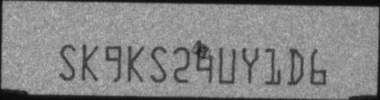1: (263, 44, 282, 84)
2: (173, 46, 191, 82)
4: (194, 46, 214, 83)
6: (309, 47, 327, 85)
9: (105, 45, 123, 82)
D: (287, 46, 305, 85)
K: (82, 42, 98, 80), (128, 44, 144, 82)
S: (149, 45, 168, 82), (59, 42, 77, 81)
U: (218, 45, 235, 84)
Y: (241, 45, 260, 84)
